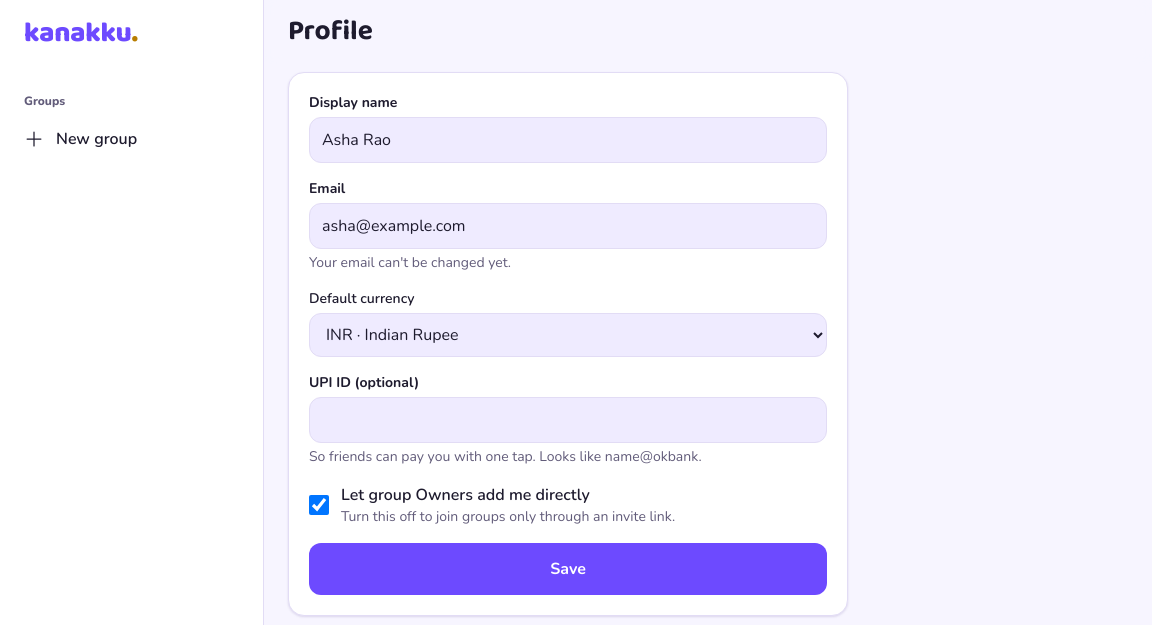
Test: ProfilePage › explains a version conflict in words and offers the latest version
The width and height of the screenshot is (1152, 625).
Click the button "Save" at (568, 569), box [309, 543, 827, 595]
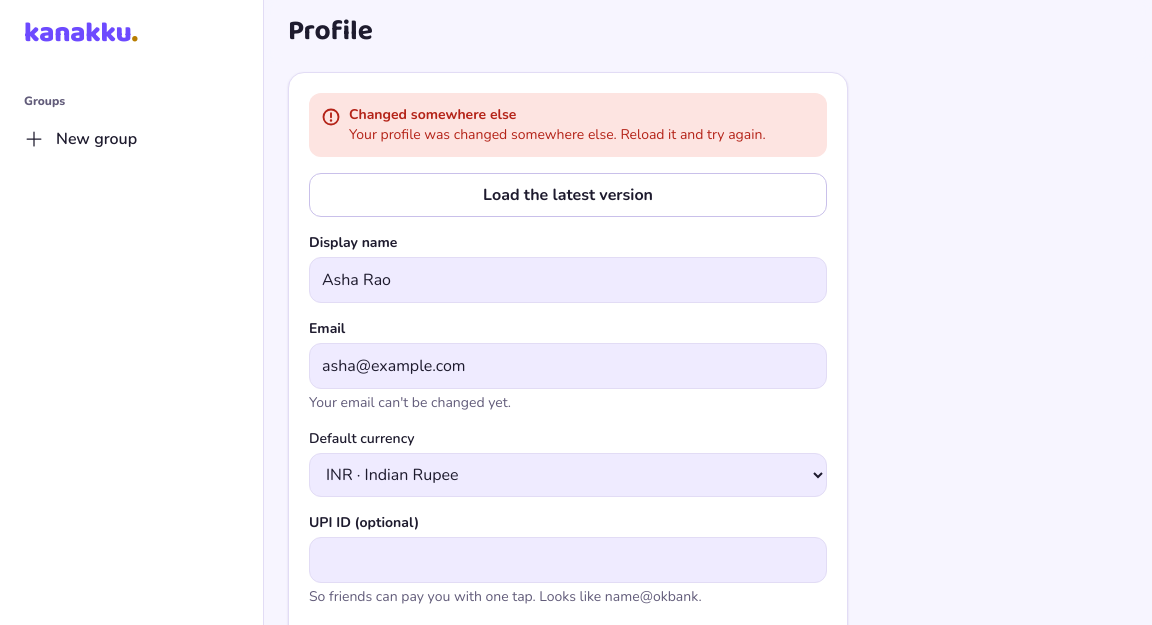
Result: the message shows "Changed somewhere else" at [349, 105, 516, 124]
Click the button "Load the latest version" at (568, 195), box [309, 173, 827, 217]
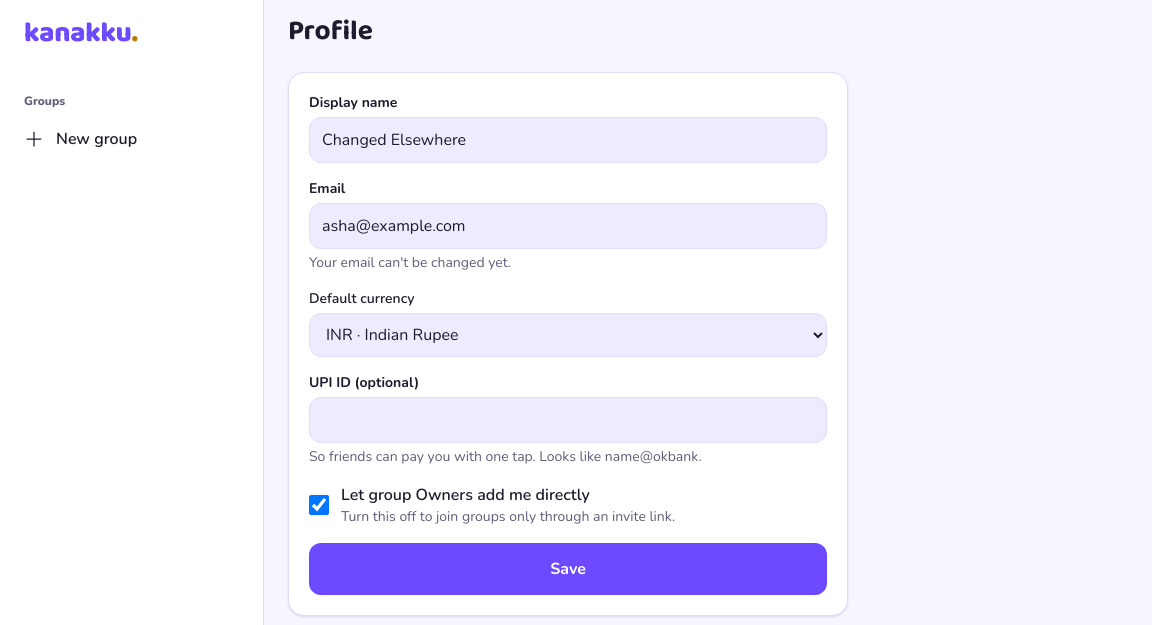
Result: the field labelled "Display name" holds "Changed Elsewhere" at [310, 118, 826, 162]
Result: the message is gone
